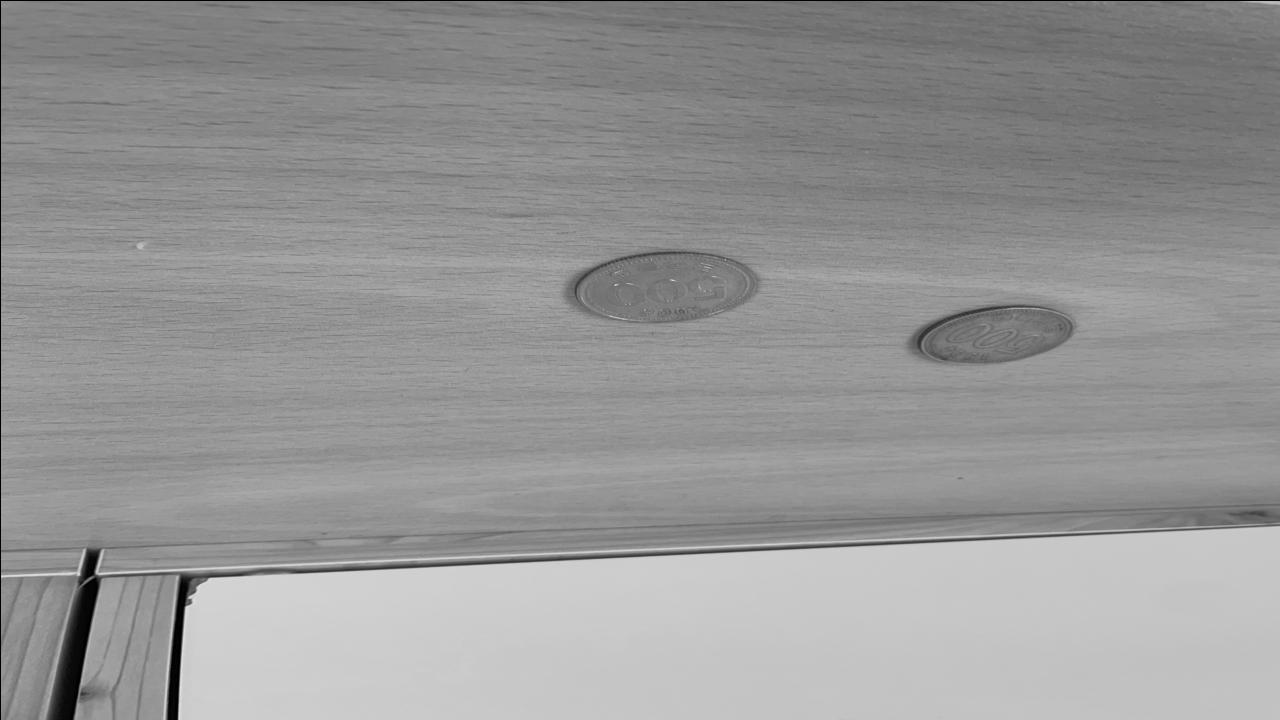coin: (568, 249, 762, 325), (916, 302, 1084, 366)
